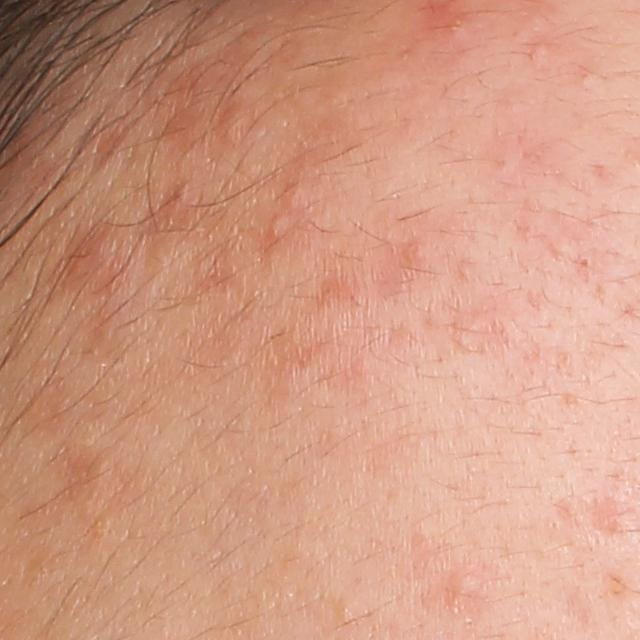comedo: (452, 572, 479, 599), (530, 41, 557, 63), (578, 255, 592, 269)
papule: (65, 224, 129, 291), (219, 105, 253, 144)
